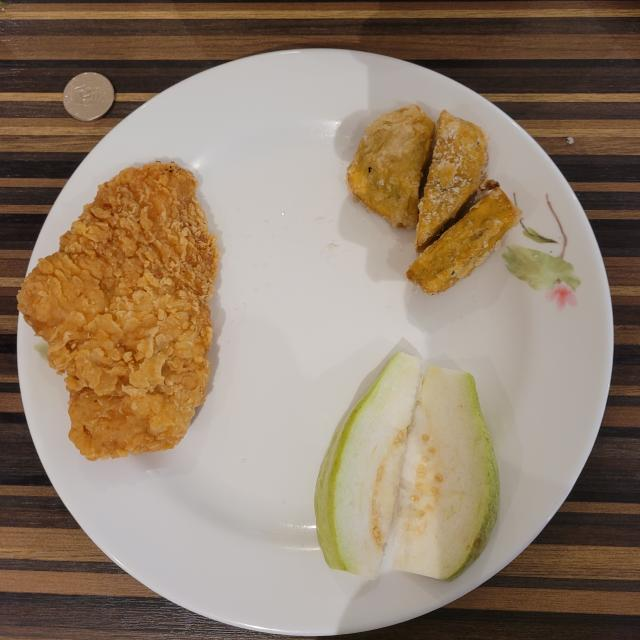coin: (62, 72, 115, 121)
fried chicken cutlet: (18, 162, 219, 460)
fried potato: (346, 105, 521, 294)
guava -sliced-: (315, 352, 500, 580)
pineapple: (0, 0, 640, 640)
